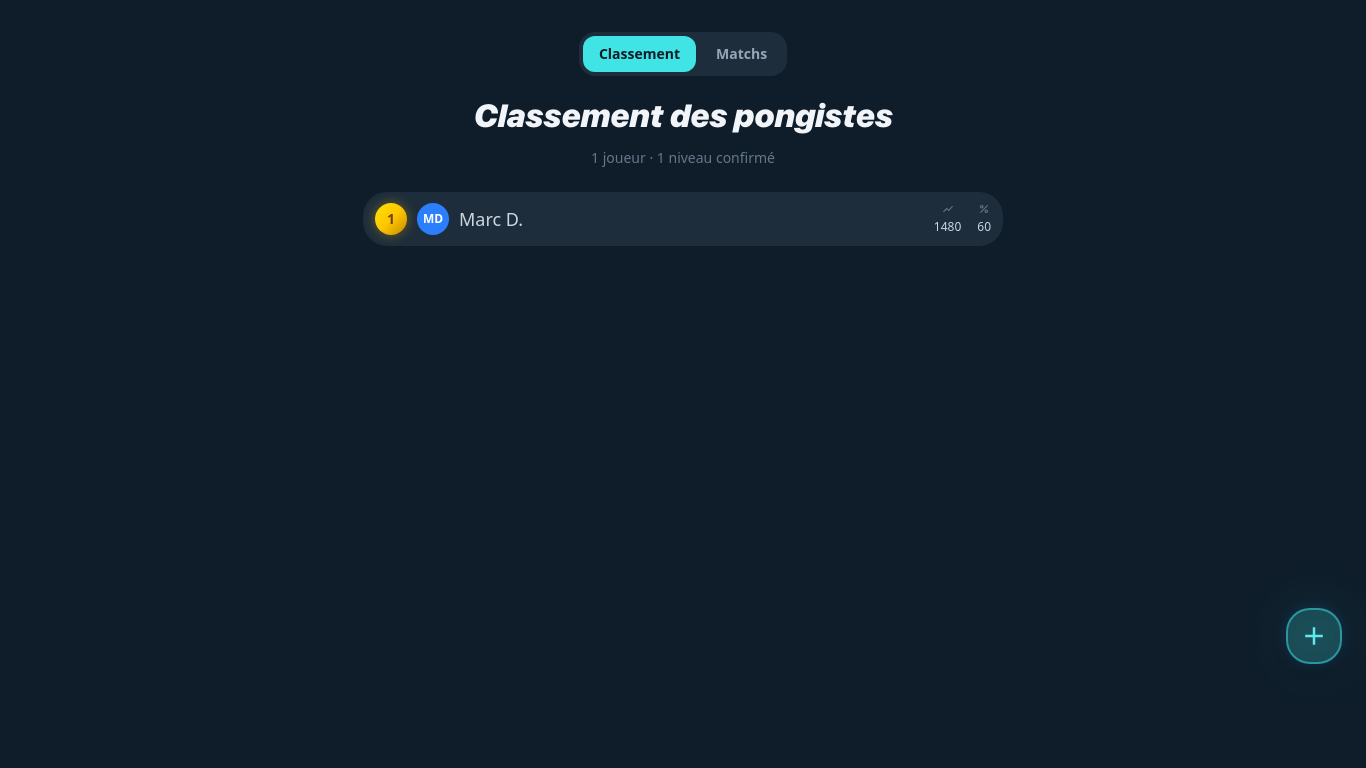
PingpongPage › the detail sheet › does not offer to record a match on someone else’s sheet
Click the button with test id "pingpong-row" at (391, 219), box [363,192,1003,246]
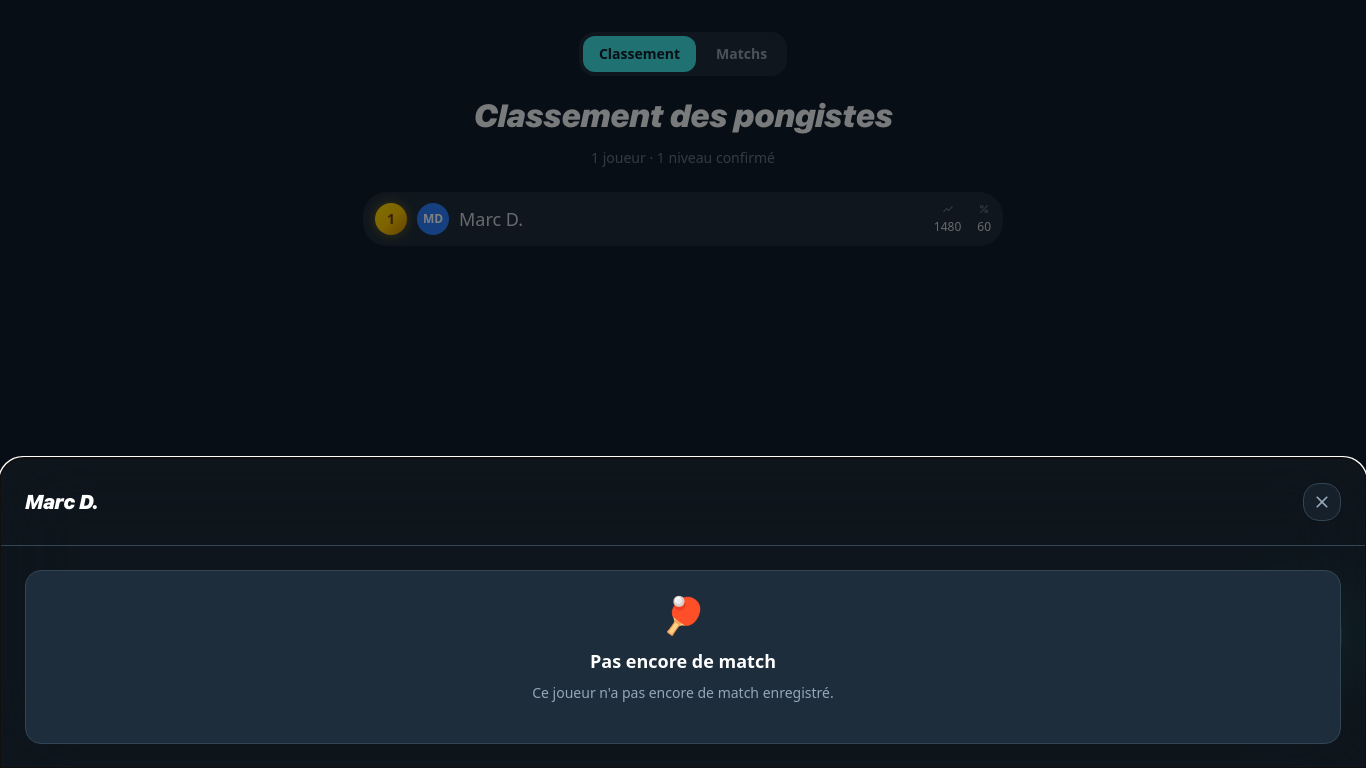
Expected: the element with test id "pingpong-tab-never-played" is shown, [25,570,1341,744]
